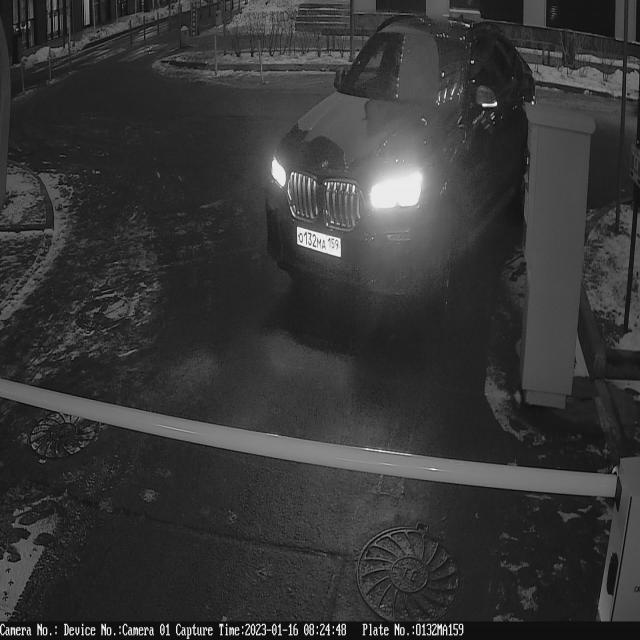car-plate-numbers: (296, 223, 345, 260)
